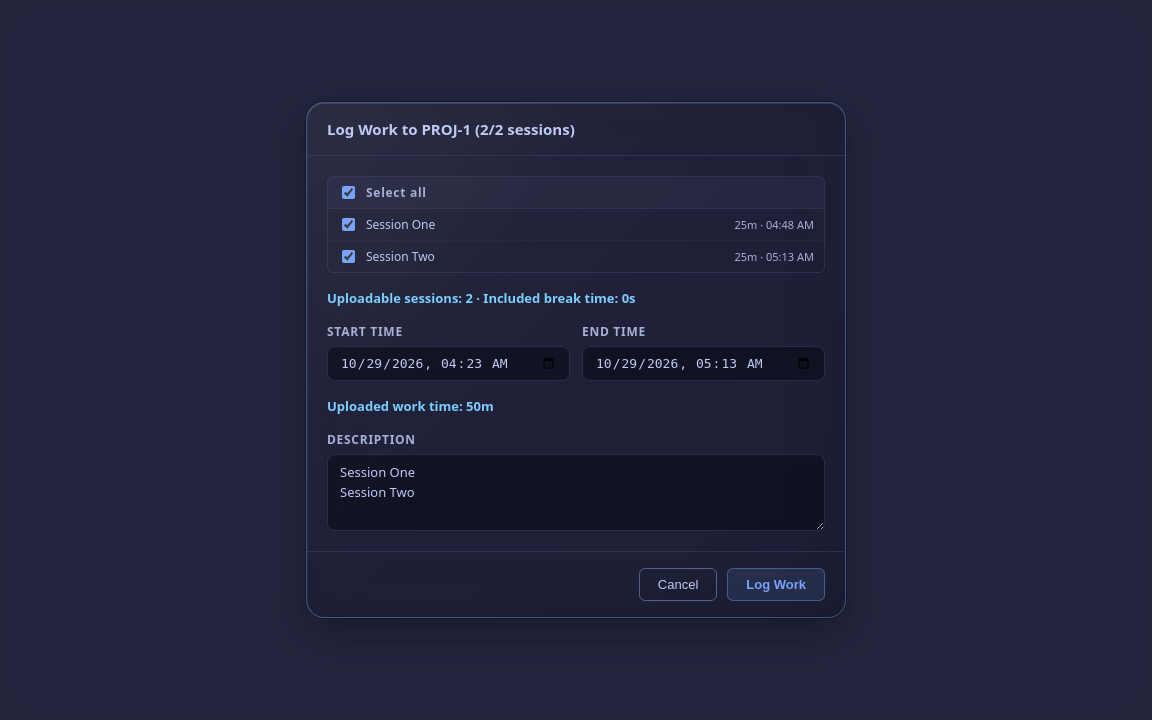
Test: WorklogConfirmDialog — bulk session mode › "Select all" checkbox deselects all sessions when all are selected
Expected: the heading "Log Work to PROJ-1 (2/2 sessions)" is shown, [327, 119, 575, 139]
Expected: the text "Select all" is shown, [342, 184, 427, 201]
Click the checkbox labelled "Select all".
click(348, 193)  # box [342, 186, 355, 199]
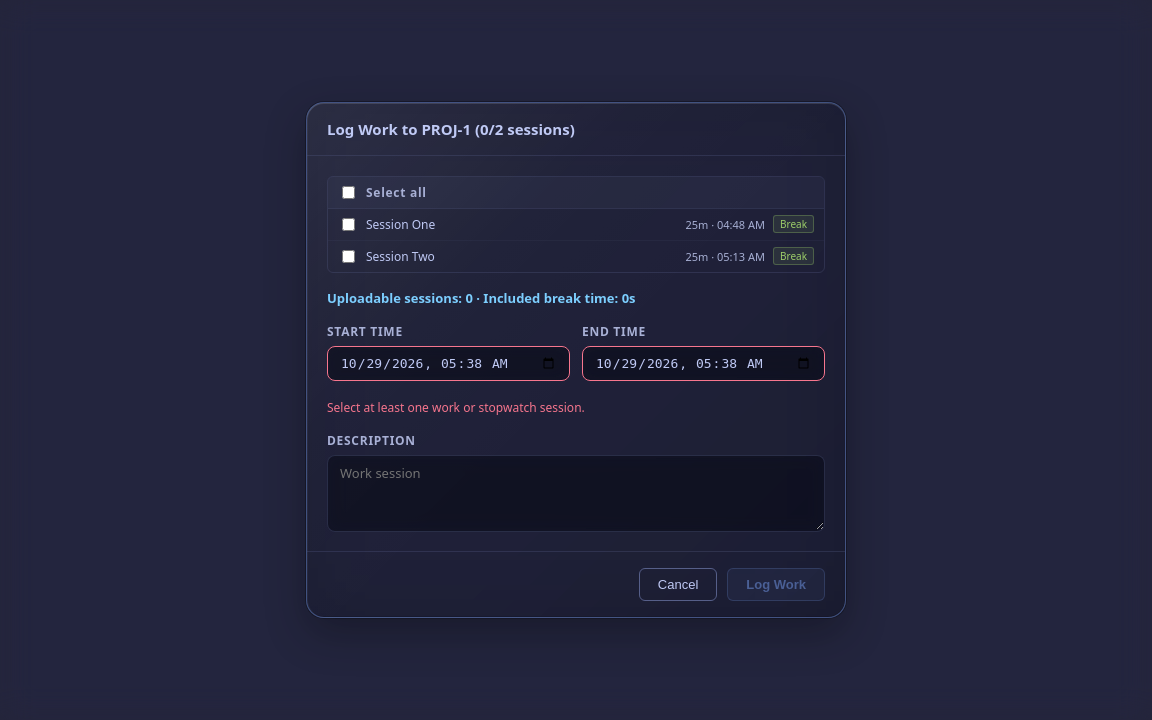
Now the heading "Log Work to PROJ-1 (0/2 sessions)" is shown, box [327, 119, 575, 139]
Click the checkbox labelled "Select all".
click(348, 192)  # box [342, 186, 355, 199]
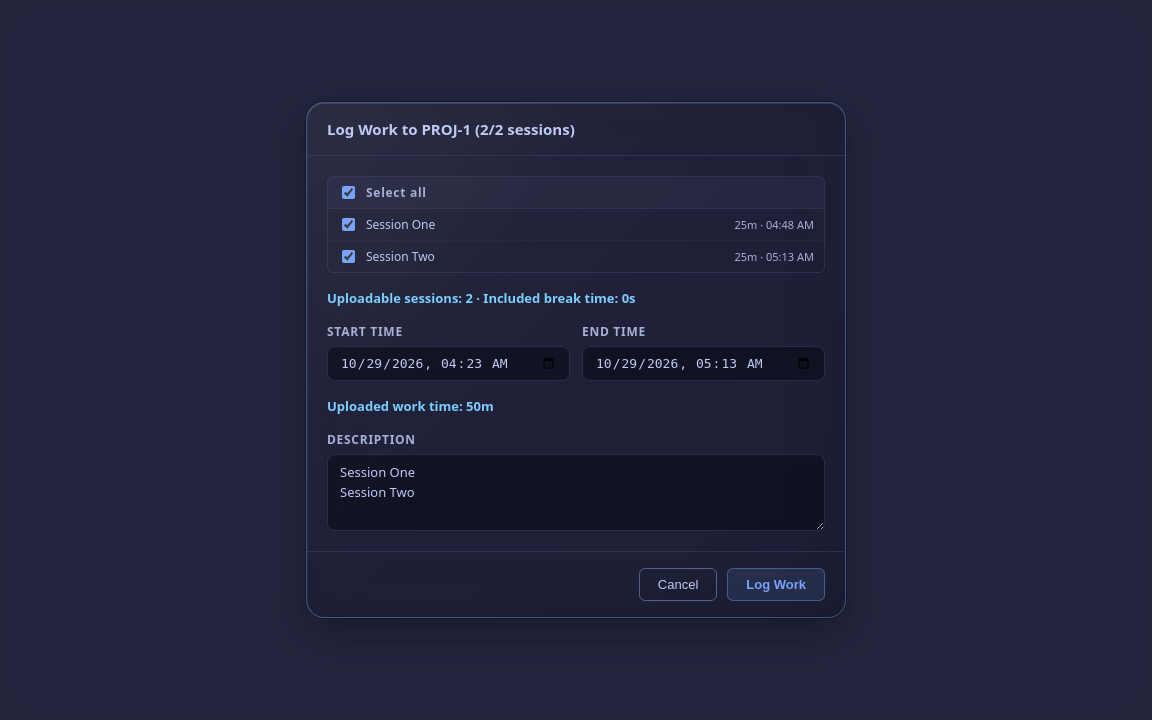
Now the heading "Log Work to PROJ-1 (2/2 sessions)" is shown, box [327, 119, 575, 139]
